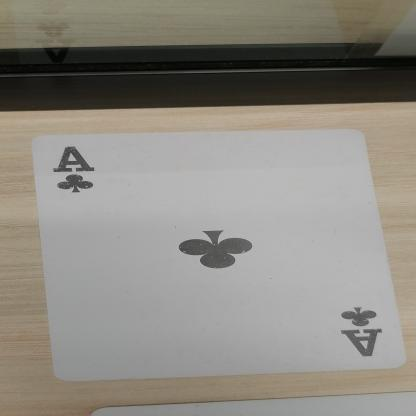AC: (292, 288, 398, 365), (41, 140, 116, 198)
